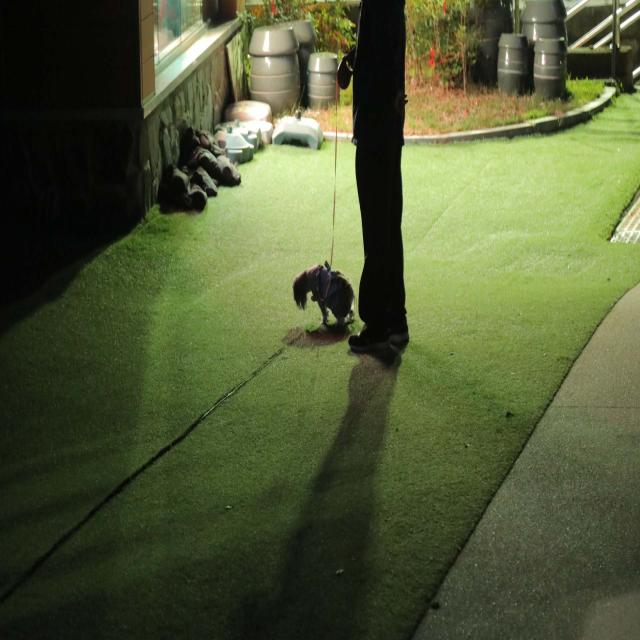Leashed_Dog: (292, 50, 380, 329)
